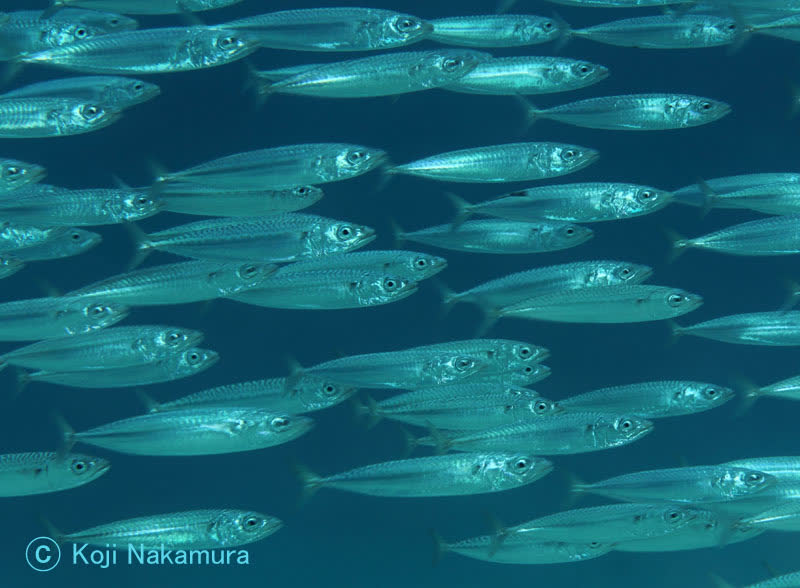saba: (138, 132, 392, 202)
